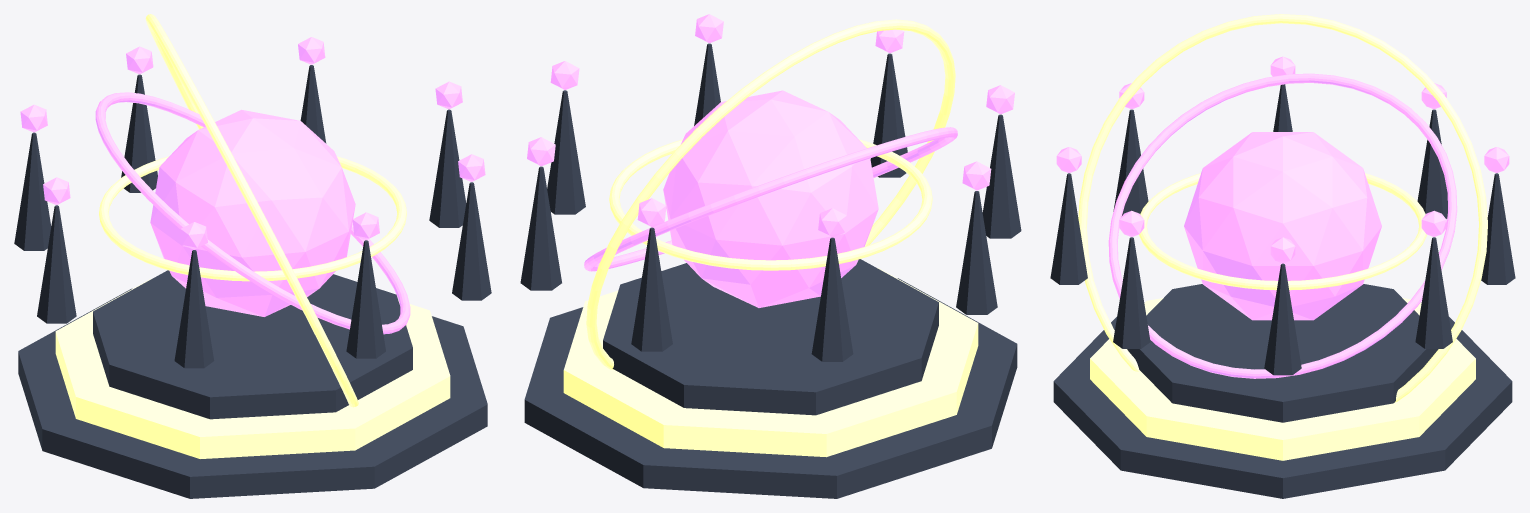
Rendered from gpu-blender-v41.glb.
3 views of the same model, side by side, from view 1: azimuth 30°, elevation 25°; view 2: azimuth 150°, elevation 25°; view 3: azimuth 270°, elevation 25° (orthographic). The views are drawn at different scales.
Visible parts, largest first — view 1: Cylinder.002, SovereignCore_agent-capsule-jail, Cylinder, Cylinder.001, Torus.001, Torus.002, Torus, Cone.005, Cone.007, Cone.004, Cone.006, Cone (+11 smaller); view 2: Cylinder.002, SovereignCore_agent-capsule-jail, Cylinder, Cylinder.001, Torus.002, Torus.001, Torus, Cone.001, Cone.003, Cone.002, Cone.004, Cone (+11 smaller); view 3: SovereignCore_agent-capsule-jail, Cylinder.002, Cylinder, Cylinder.001, Torus.002, Torus.001, Torus, Cone, Cone.001, Cone.007, Cone.006, Cone.002 (+8 smaller).
Boxes of the visible parts, <box> form: Cylinder.002: <box>93,270,412,419</box>; SovereignCore_agent-capsule-jail: <box>150,109,355,316</box>; Cylinder: <box>18,288,487,498</box>; Cylinder.001: <box>55,278,450,458</box>; Torus.001: <box>95,92,410,334</box>; Torus.002: <box>145,14,358,407</box>; Torus: <box>99,156,406,281</box>; Cone.005: <box>174,250,214,368</box>; Cone.007: <box>452,182,491,300</box>; Cone.004: <box>37,205,76,323</box>; Cone.006: <box>346,240,385,358</box>; Cone: <box>429,109,466,227</box>; Cylinder.002: <box>603,259,938,415</box>; SovereignCore_agent-capsule-jail: <box>663,90,878,307</box>; Cylinder: <box>524,278,1017,498</box>; Cylinder.001: <box>563,268,978,457</box>; Torus.002: <box>586,19,955,369</box>; Torus.001: <box>584,127,957,271</box>; Torus: <box>609,139,932,270</box>; Cone.001: <box>520,166,561,290</box>; Cone.003: <box>811,237,853,361</box>; Cone.002: <box>631,227,672,351</box>; Cone.004: <box>956,191,997,314</box>; Cone: <box>547,90,585,214</box>; SovereignCore_agent-capsule-jail: <box>1184,132,1381,320</box>; Cylinder.002: <box>1127,284,1438,422</box>; Cylinder: <box>1053,317,1512,498</box>; Cylinder.001: <box>1090,298,1475,460</box>; Torus.002: <box>1078,14,1487,402</box>; Torus.001: <box>1108,73,1457,378</box>; Torus: <box>1139,173,1426,290</box>; Cone: <box>1264,263,1301,375</box>; Cone.001: <box>1415,237,1452,348</box>; Cone.007: <box>1113,237,1150,348</box>; Cone.006: <box>1050,173,1087,284</box>; Cone.002: <box>1481,173,1515,284</box>.
Size of the model in its own units: 4.41 by 3.72 by 4.46.
